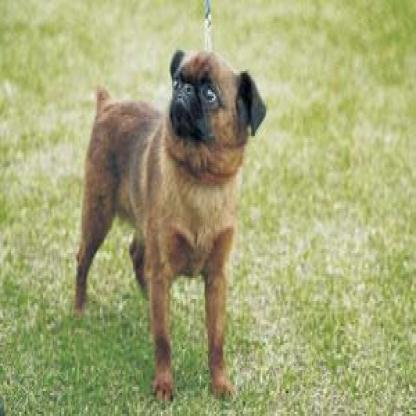Brabancon_griffon: (70, 50, 268, 399)
